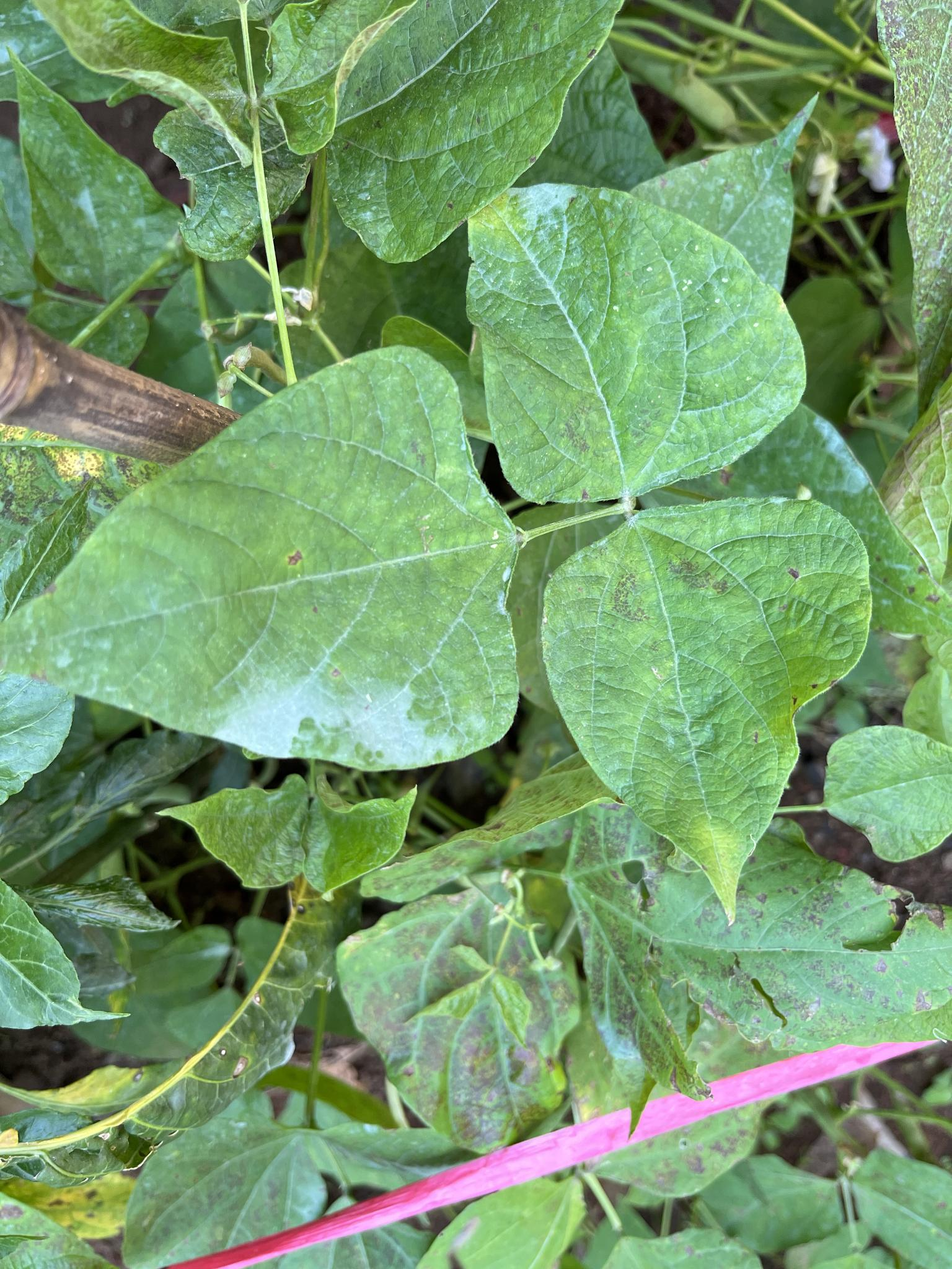embun tepung: (215, 654, 442, 765)
